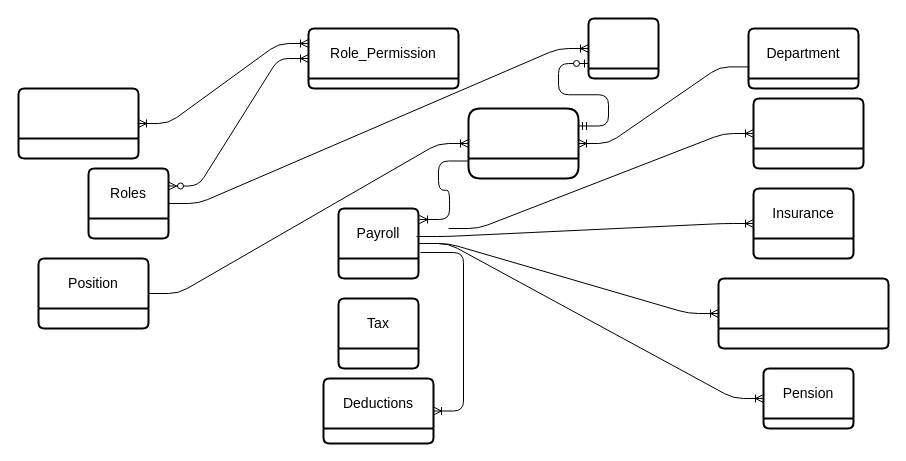
The diagram is 906 pixels wide and 461 high, and some of its shapes have lost their labels. Here are the shapes that lost their labels. From the top down, the centre of each, then its label:
(623,48): User
(78,123): Permissions
(523,143): Employee
(808,133): Allowances
(803,313): Loans and advances
